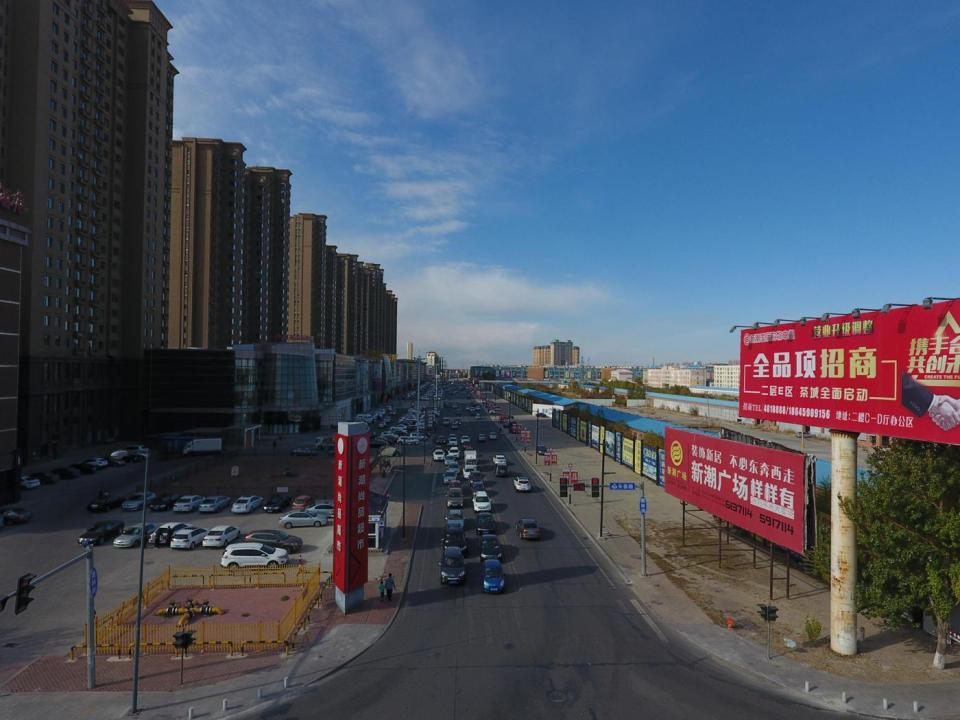bus: (475, 384, 478, 387)
car: (222, 543, 288, 569), (245, 530, 303, 553), (77, 520, 124, 546), (113, 522, 158, 546), (440, 546, 466, 585), (149, 522, 195, 542), (278, 509, 328, 527), (171, 527, 210, 550), (202, 525, 241, 547), (303, 501, 349, 518), (442, 523, 466, 555), (481, 560, 505, 592), (121, 492, 159, 510), (479, 533, 502, 561), (88, 494, 125, 511), (0, 506, 31, 526), (231, 494, 262, 514), (174, 495, 206, 514), (199, 494, 230, 513), (150, 492, 181, 510), (262, 493, 291, 512), (514, 519, 540, 540), (475, 512, 495, 535), (5, 476, 40, 489), (472, 491, 492, 513), (28, 472, 60, 483), (292, 494, 315, 509), (446, 510, 465, 528), (76, 458, 109, 468), (446, 488, 464, 506), (116, 444, 148, 454), (49, 468, 81, 478), (111, 453, 144, 462), (118, 450, 150, 459), (94, 456, 126, 465), (64, 464, 96, 473), (378, 446, 402, 456), (446, 480, 463, 494), (469, 470, 483, 487), (513, 478, 530, 492), (471, 482, 485, 497), (291, 448, 317, 456), (493, 464, 508, 477), (327, 448, 350, 456), (444, 470, 457, 483), (397, 436, 418, 444), (366, 440, 388, 447), (463, 466, 475, 478), (412, 428, 430, 436), (374, 437, 394, 444), (449, 446, 460, 458), (433, 449, 445, 460), (448, 462, 459, 474), (502, 420, 518, 428), (492, 455, 506, 464), (444, 454, 455, 465), (468, 452, 479, 463), (536, 445, 547, 455), (400, 413, 417, 419), (422, 408, 439, 414), (418, 420, 435, 426), (412, 426, 429, 432), (385, 434, 401, 440), (382, 432, 398, 438), (390, 430, 406, 436), (390, 428, 406, 434), (390, 424, 406, 430), (393, 422, 409, 428), (395, 421, 411, 427), (398, 420, 414, 426), (401, 415, 417, 421), (401, 416, 417, 422), (409, 406, 425, 412), (406, 406, 422, 412), (423, 406, 439, 412), (422, 411, 438, 417), (423, 413, 439, 419), (420, 415, 436, 421), (420, 418, 436, 424), (417, 423, 433, 429), (365, 412, 377, 420), (499, 413, 514, 419), (410, 434, 427, 439), (400, 419, 417, 424), (405, 410, 422, 415), (508, 426, 518, 434), (433, 446, 443, 454), (466, 447, 474, 457), (380, 436, 396, 441), (404, 412, 420, 417), (376, 405, 392, 410), (359, 427, 370, 434), (352, 420, 367, 425), (436, 436, 445, 444), (449, 438, 458, 446), (461, 435, 470, 443), (371, 411, 383, 417), (357, 419, 371, 424), (489, 409, 502, 414), (368, 412, 381, 417), (448, 434, 456, 442), (446, 444, 454, 452), (487, 406, 499, 411), (374, 409, 385, 414), (377, 407, 388, 412), (482, 398, 491, 404), (464, 441, 471, 448), (478, 434, 485, 441), (384, 416, 391, 423), (368, 432, 377, 437), (451, 422, 458, 428), (454, 418, 461, 424), (489, 433, 496, 439), (536, 413, 546, 417), (378, 422, 386, 427), (488, 401, 494, 407), (456, 409, 462, 415), (390, 410, 397, 415), (475, 405, 481, 410), (470, 410, 476, 415), (476, 413, 482, 418), (444, 401, 448, 406), (452, 403, 456, 408), (469, 408, 474, 412), (446, 388, 452, 391), (466, 406, 470, 410), (445, 404, 450, 407), (444, 399, 447, 404), (445, 390, 452, 392), (471, 400, 475, 403), (449, 392, 452, 395), (472, 405, 476, 407), (462, 388, 465, 390), (455, 391, 457, 393), (455, 388, 457, 390), (460, 389, 462, 391), (460, 386, 462, 388), (467, 390, 469, 392), (454, 384, 456, 385)
truck: (182, 438, 222, 456), (312, 436, 350, 451), (464, 450, 478, 471), (442, 417, 450, 424)
van: (357, 414, 373, 421), (467, 394, 471, 399)
